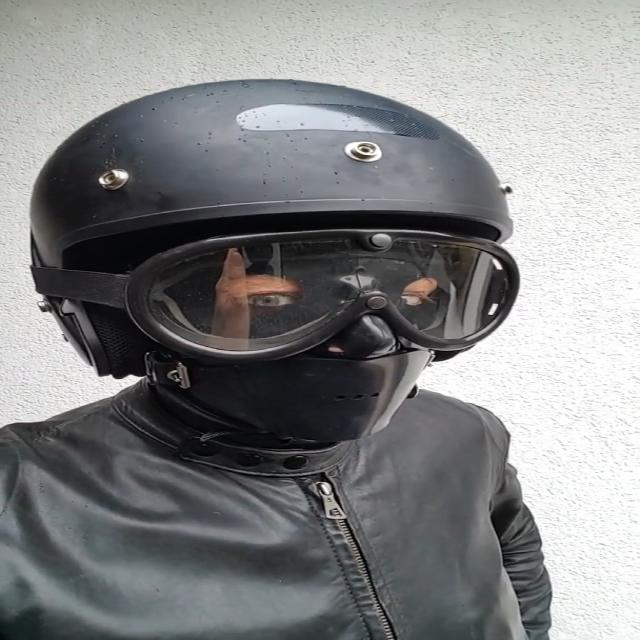Helmet_Wearer: (1, 67, 566, 463)
Jacket_Wearer: (0, 349, 572, 640)
Person: (12, 71, 572, 640)
